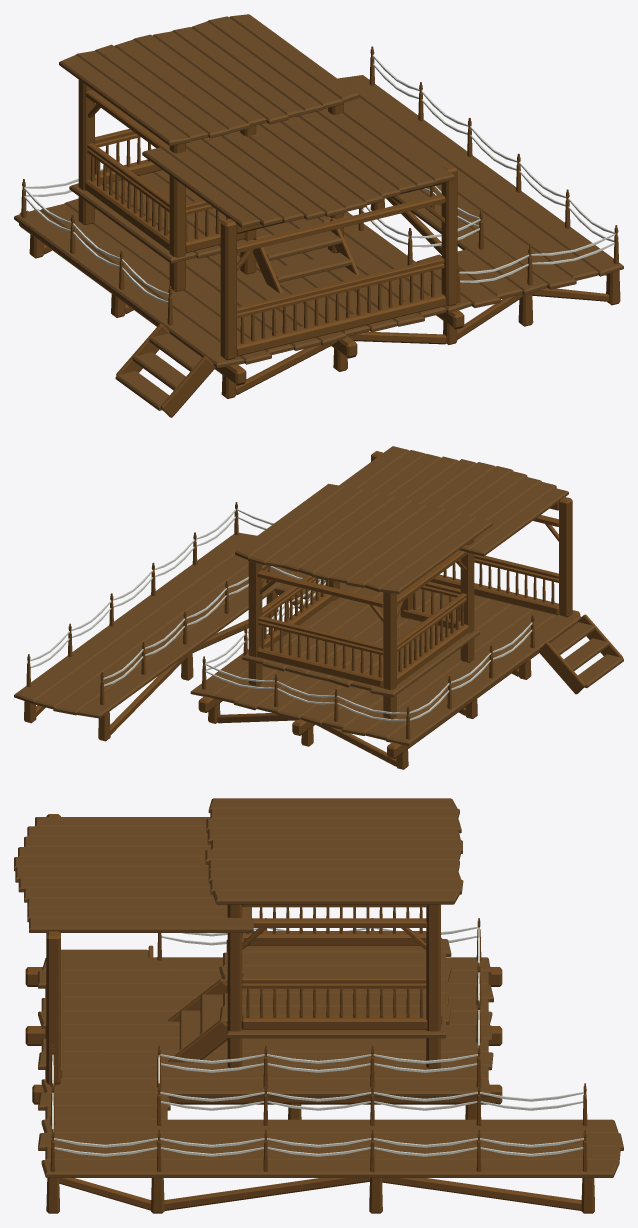
Rendered from farmstractures_11.gltf.
The picture shows the model from 3 angles, top to bottom: view 1: azimuth 30°, elevation 25°; view 2: azimuth 150°, elevation 25°; view 3: azimuth 270°, elevation 25°; orthographic projection. The views are drawn at different scales.
Visible parts, largest first — view 1: body, blades; view 2: body, blades; view 3: body, blades.
Boxes of the visible parts, <box> form: body: <box>14,46,623,417</box>; blades: <box>59,14,457,359</box>; body: <box>14,451,623,769</box>; blades: <box>237,446,572,718</box>; body: <box>14,798,623,1213</box>; blades: <box>14,798,462,1083</box>.
Bounding box in the file's own units: 8.59 × 3.67 × 9.04.
1 material, 1 textured.
